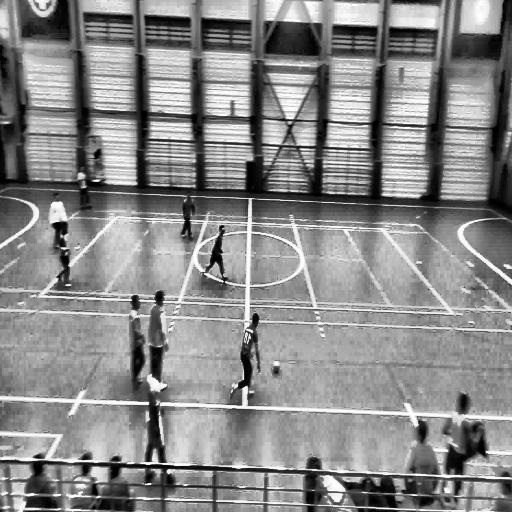ball: (272, 360, 281, 375)
player: (442, 393, 486, 504), (143, 352, 178, 485), (230, 310, 261, 404), (146, 288, 170, 393), (129, 293, 146, 386), (53, 218, 73, 294), (202, 223, 226, 282), (49, 188, 68, 257), (77, 163, 93, 209), (181, 193, 195, 240)
